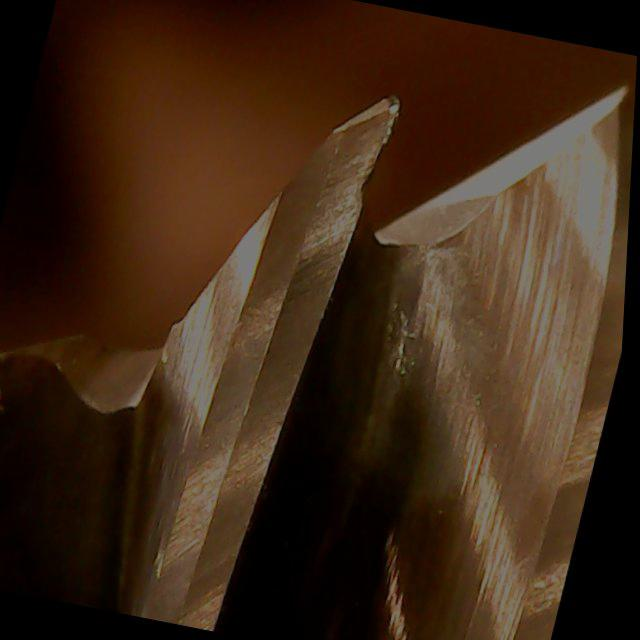Tool-wear-class-1: (226, 75, 412, 369)
